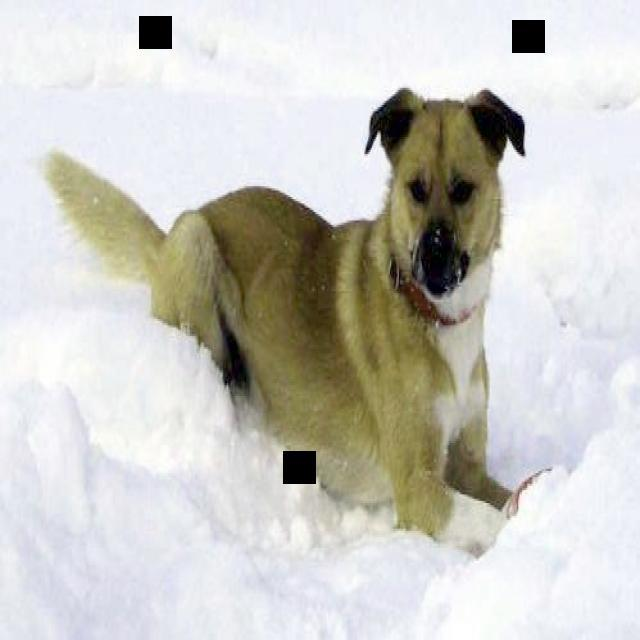adult_dog: (40, 85, 529, 558)
